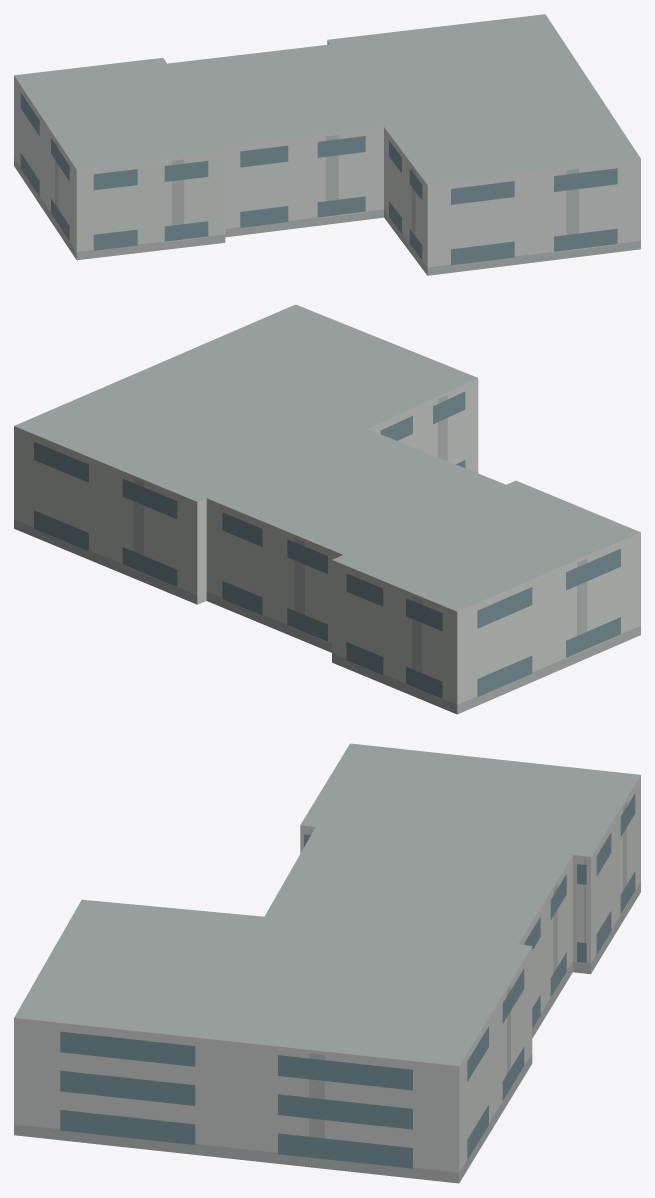
The model's file is survey-upis-32745709.glb.
3 views of the same model, one above another, from view 1: azimuth 30°, elevation 25°; view 2: azimuth 150°, elevation 25°; view 3: azimuth 270°, elevation 25° (orthographic). The views are drawn at different scales.
Visible parts, largest first — view 1: survey-upis-32745709.tmp; view 2: survey-upis-32745709.tmp; view 3: survey-upis-32745709.tmp.
Part boxes in pixels (box(x1,y1,x2,y2)): survey-upis-32745709.tmp: box(14, 14, 640, 275); survey-upis-32745709.tmp: box(14, 304, 640, 714); survey-upis-32745709.tmp: box(14, 743, 640, 1183).
Bounding box in the file's own units: 53.98 × 9.15 × 44.31.
